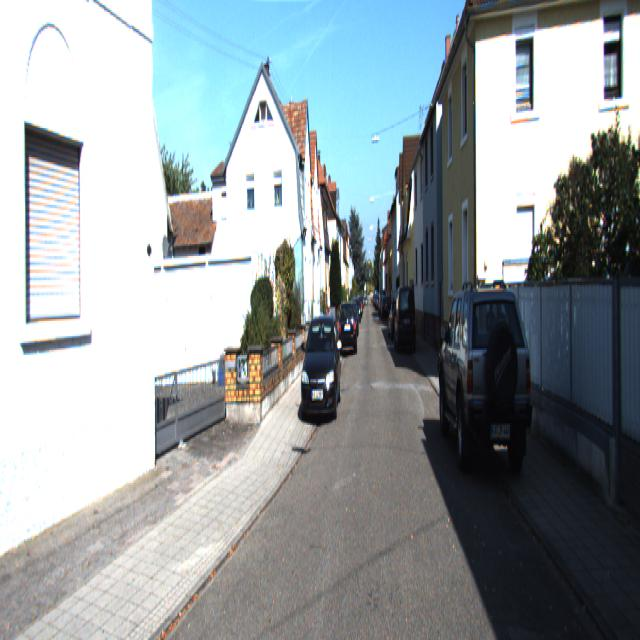Car: (436, 270, 534, 480), (300, 310, 341, 419), (396, 290, 418, 360), (339, 300, 357, 357)
